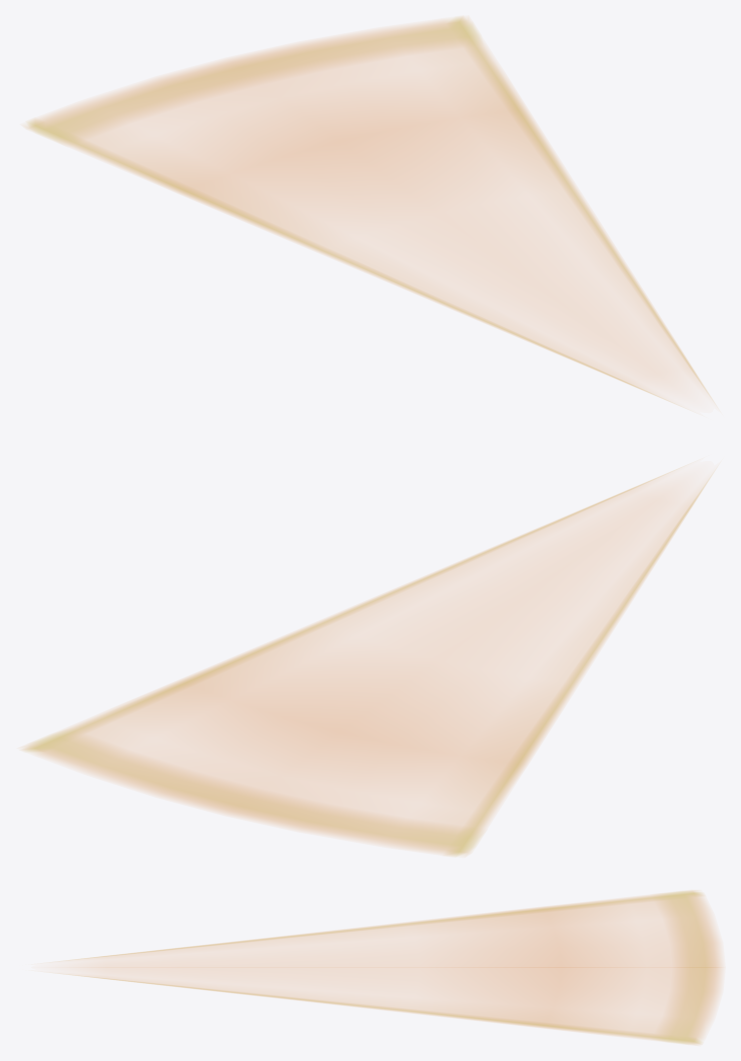
Rendered from wsc-kit-006-patrol-floor-sweep.glb.
3 renders of one model, top to bottom at view 1: azimuth 30°, elevation 25°; view 2: azimuth 150°, elevation 25°; view 3: azimuth 270°, elevation 25°, orthographic. The views are drawn at different scales.
Parts seen in each view (by area): view 1: E5b patrol floor sweep; view 2: E5b patrol floor sweep; view 3: E5b patrol floor sweep.
Part boxes in pixels (x1,y1,x2,y2): E5b patrol floor sweep: [25, 16, 713, 406]; E5b patrol floor sweep: [22, 467, 712, 856]; E5b patrol floor sweep: [59, 890, 722, 1044].
Bounding box in the file's own units: 3 × 0 × 5.69.
